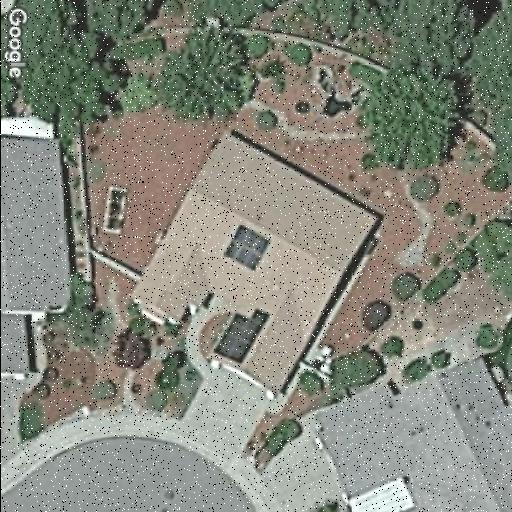solar-panel: (213, 306, 273, 366), (221, 223, 273, 273)
